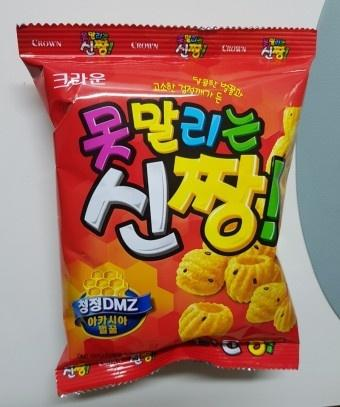snack: (14, 22, 320, 399)
